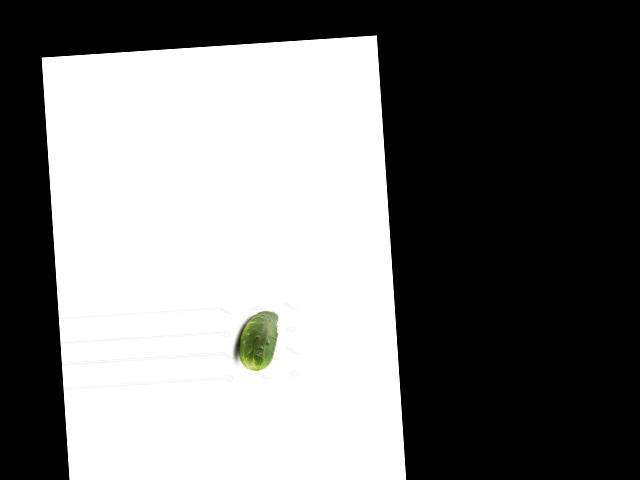cucumber: (236, 310, 281, 372)
